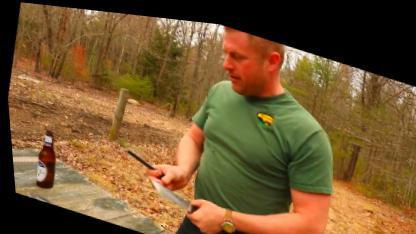knife: (135, 167, 221, 233)
